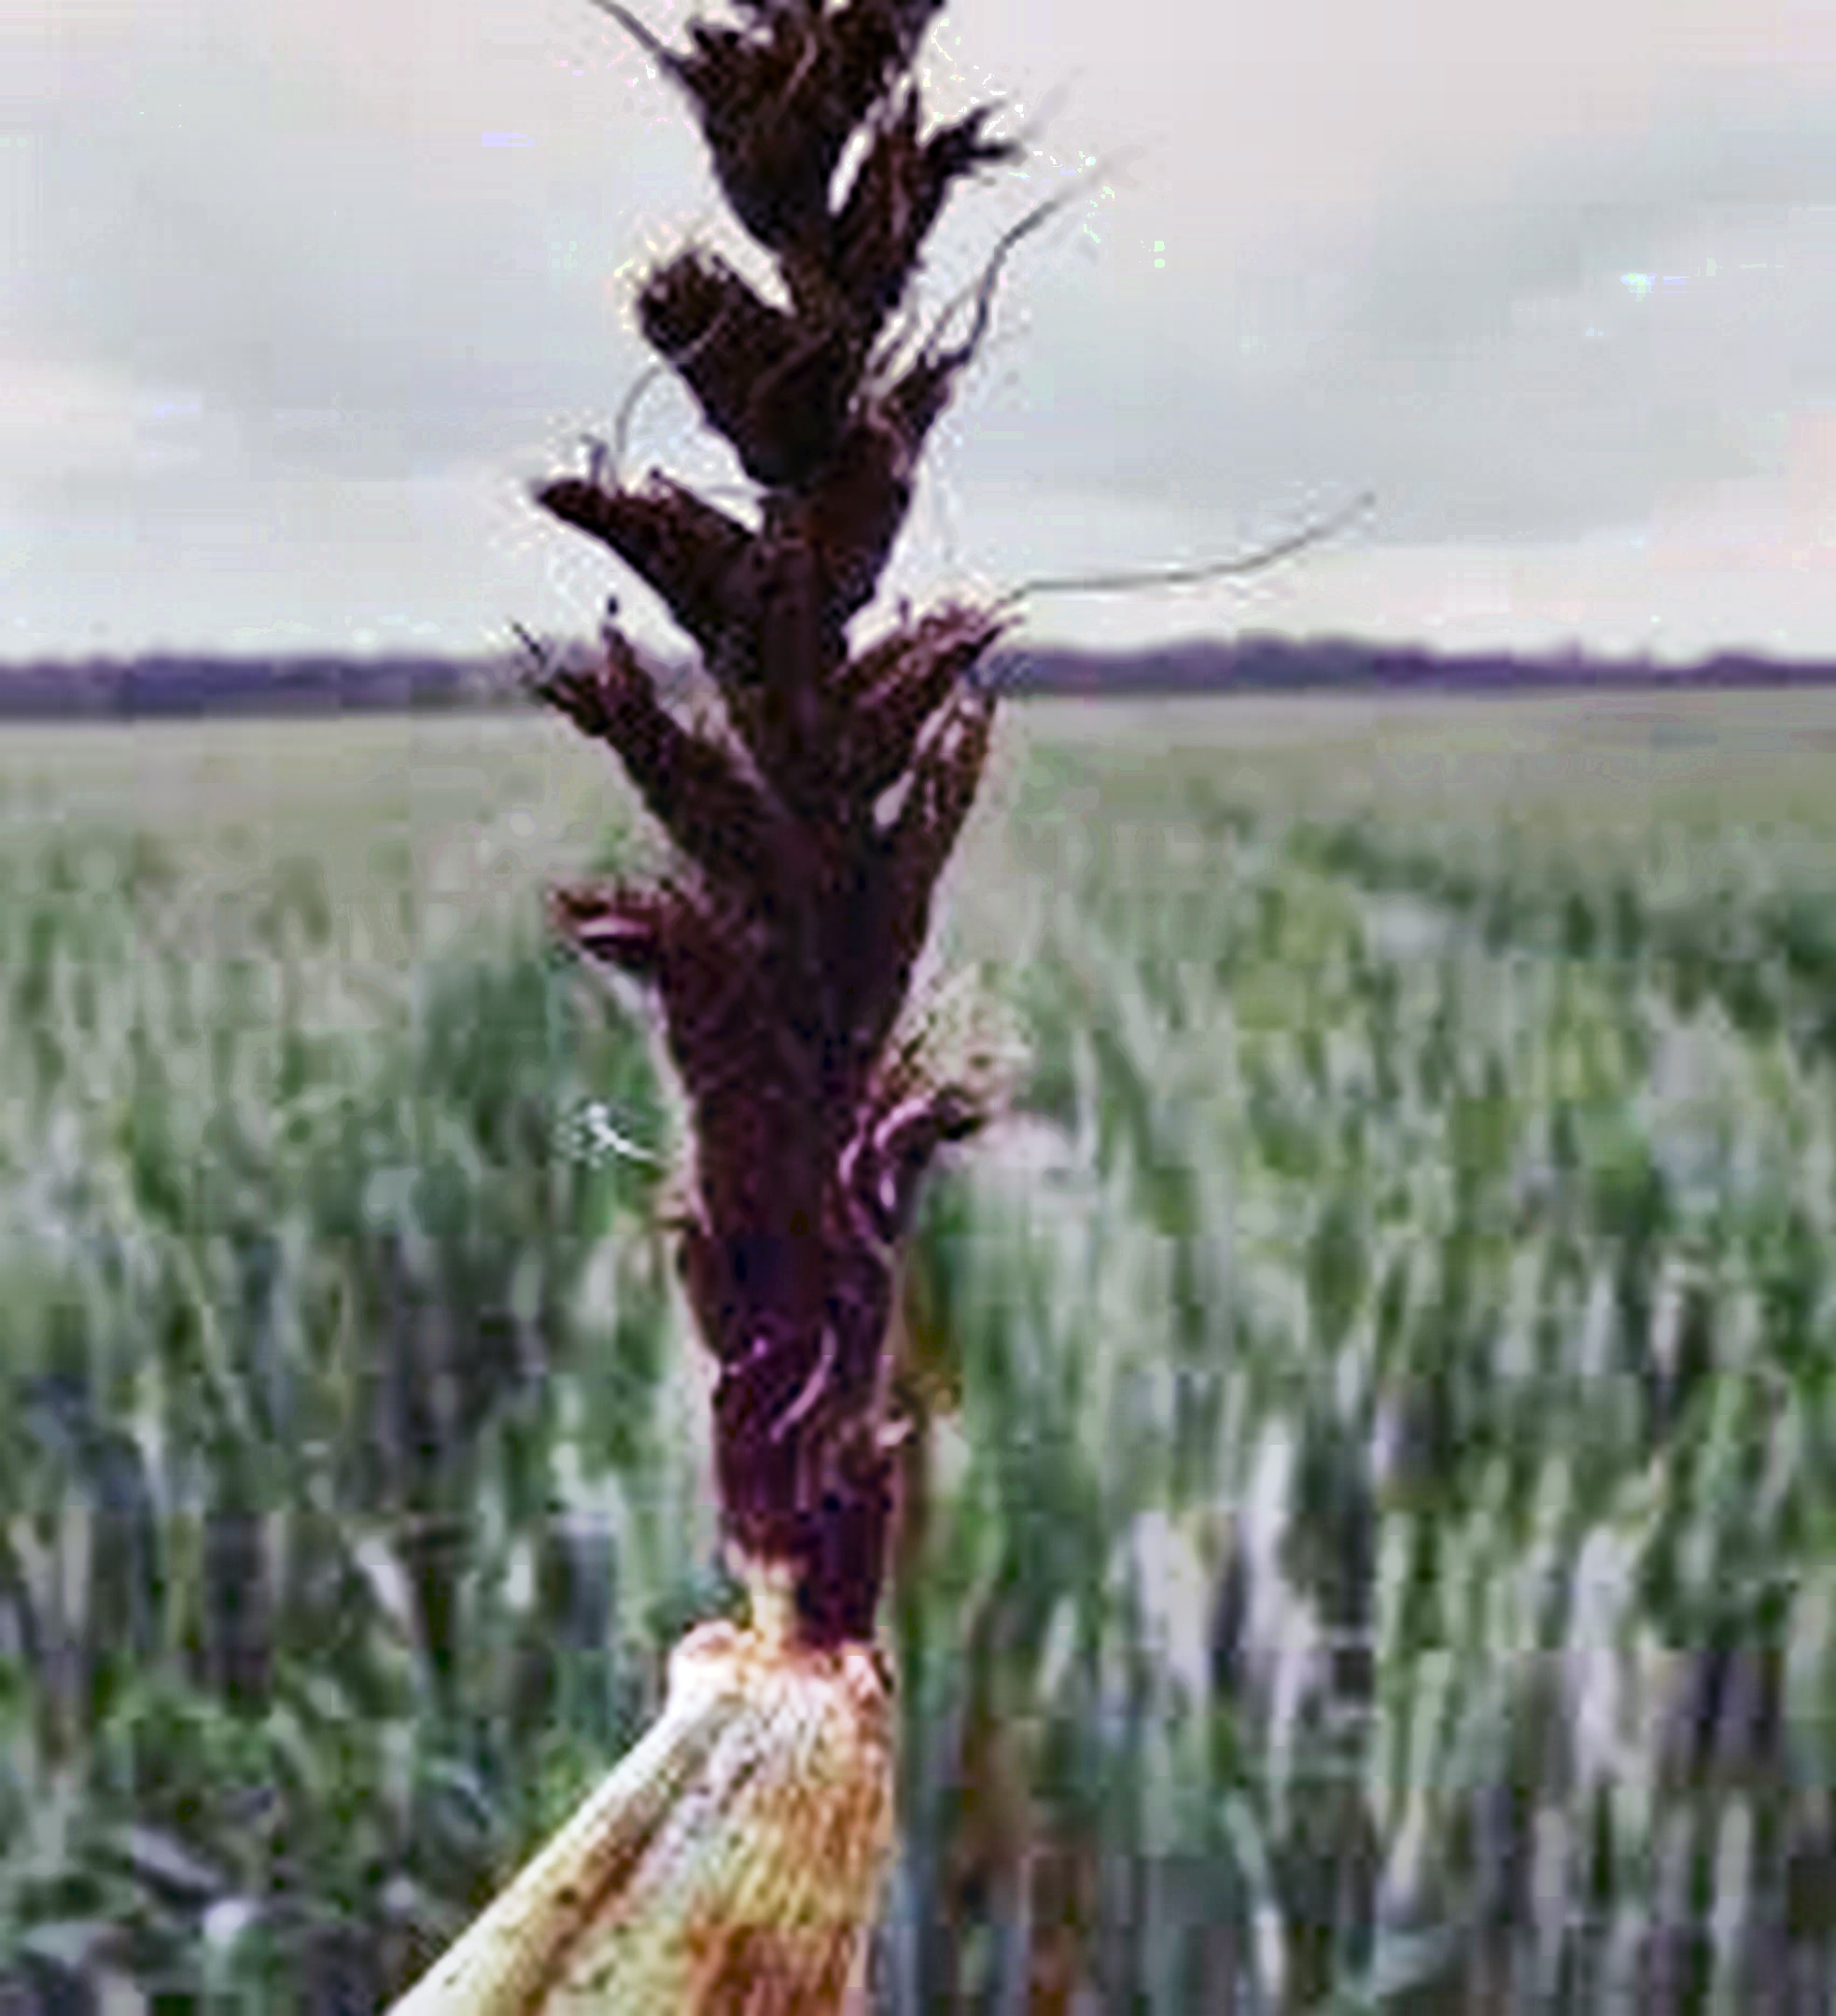Wheat Loose Smut: (483, 32, 1033, 1588)
